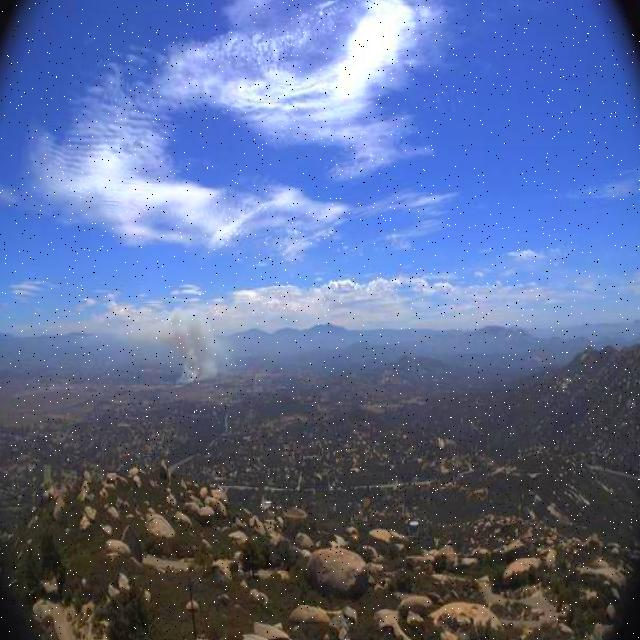smoke: (161, 303, 234, 388)
